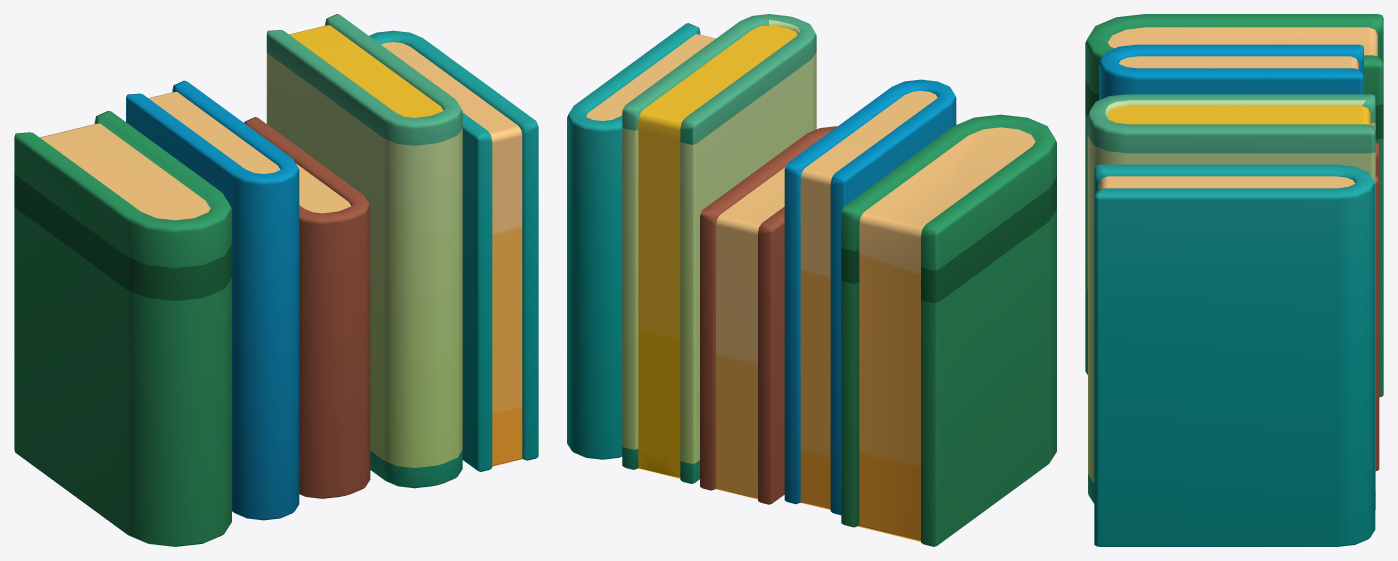
File: Books_02.glb
3 renders of one model, left to right at view 1: azimuth 30°, elevation 25°; view 2: azimuth 150°, elevation 25°; view 3: azimuth 270°, elevation 25°, orthographic. The views are drawn at different scales.
Visible parts, largest first — view 1: Books_02; view 2: Books_02; view 3: Books_02.
Boxes of the visible parts, x1=… form: Books_02: x1=14, y1=14, x2=538, y2=546; Books_02: x1=567, y1=14, x2=1056, y2=546; Books_02: x1=1085, y1=14, x2=1383, y2=546.
Size of the model in its own units: 0.3547 by 0.3173 by 0.2242.
Materials: 1 (1 with a texture image).
